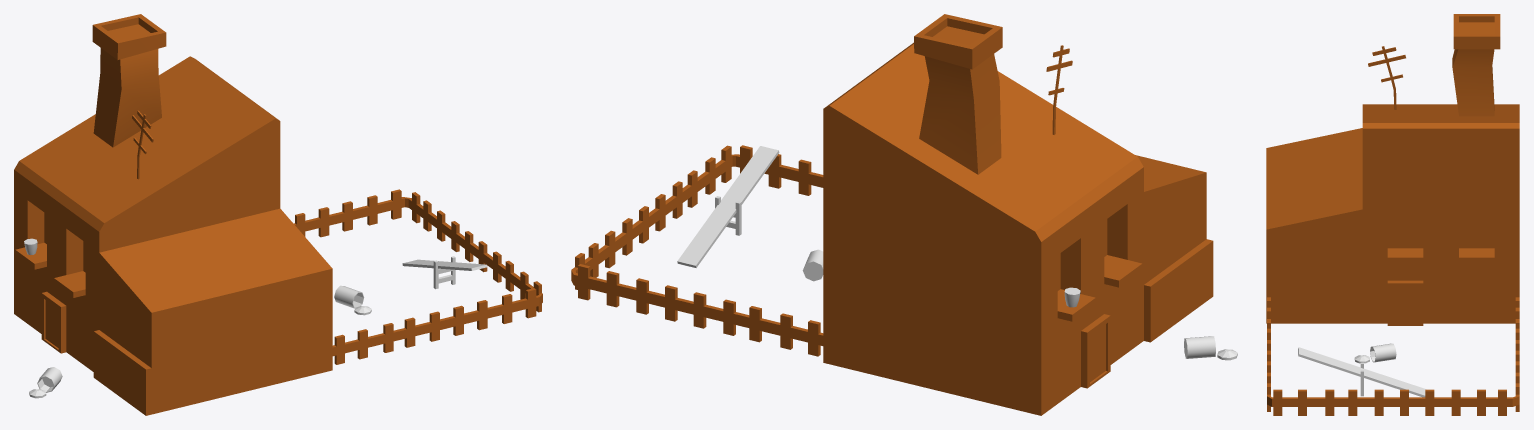
File: shitty_suburb_Houe1.FBX
The picture shows the model from 3 angles, left to right: view 1: azimuth 30°, elevation 25°; view 2: azimuth 150°, elevation 25°; view 3: azimuth 270°, elevation 25°; orthographic projection. The views are drawn at different scales.
Parts seen in each view (by area): view 1: Box004, Box012, Object001, Cylinder004, Box017, Cylinder003; view 2: Box004, Box012, Object001, Box017, Cylinder003; view 3: Box004, Box012, Object001, Box017, Cylinder004.
Part boxes in pixels (x1,y1,x2,y2): Box004: [14, 56, 332, 415]; Box012: [293, 189, 542, 364]; Object001: [92, 14, 166, 147]; Cylinder004: [334, 285, 371, 315]; Box017: [402, 259, 487, 270]; Cylinder003: [29, 367, 62, 398]; Box004: [823, 42, 1213, 415]; Box012: [571, 145, 823, 356]; Object001: [914, 14, 1002, 174]; Box017: [677, 146, 779, 267]; Cylinder003: [1184, 336, 1237, 360]; Box004: [1266, 46, 1519, 325]; Box012: [1267, 297, 1519, 415]; Object001: [1452, 14, 1500, 116]; Box017: [1298, 347, 1426, 397]; Cylinder004: [1354, 343, 1396, 363].
Bounding box in the file's own units: 10.11 × 5.81 × 5.14.
